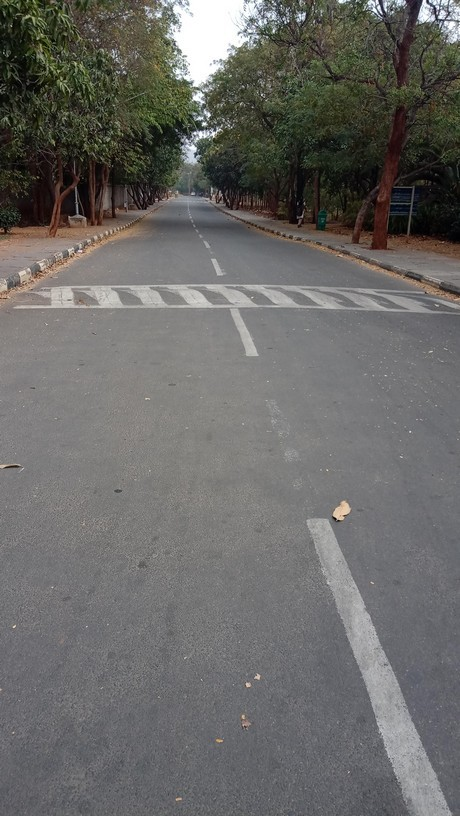bump: (1, 283, 460, 305)
